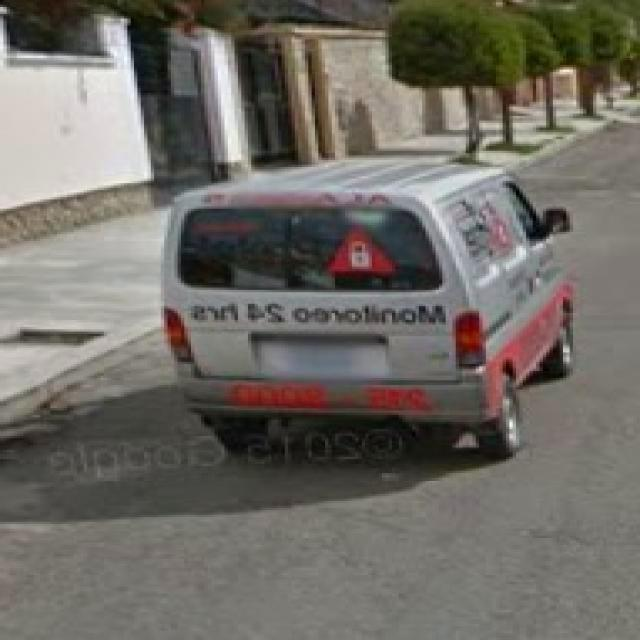Car: (148, 154, 574, 466)
